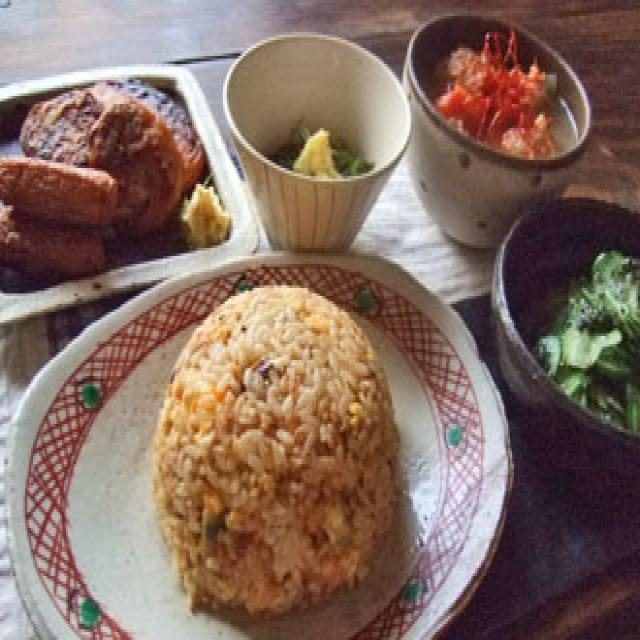米饭主食: (17, 266, 511, 640)
